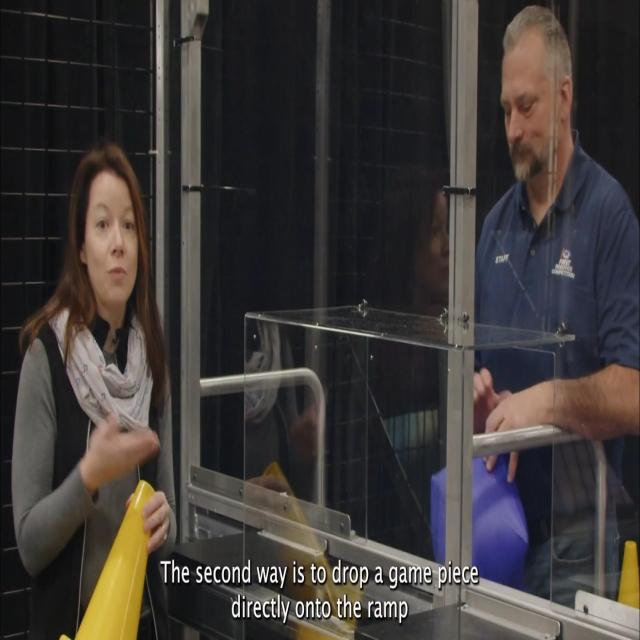frc_cone: (60, 476, 157, 639), (618, 535, 640, 611)
frc_cube: (431, 450, 528, 582)
